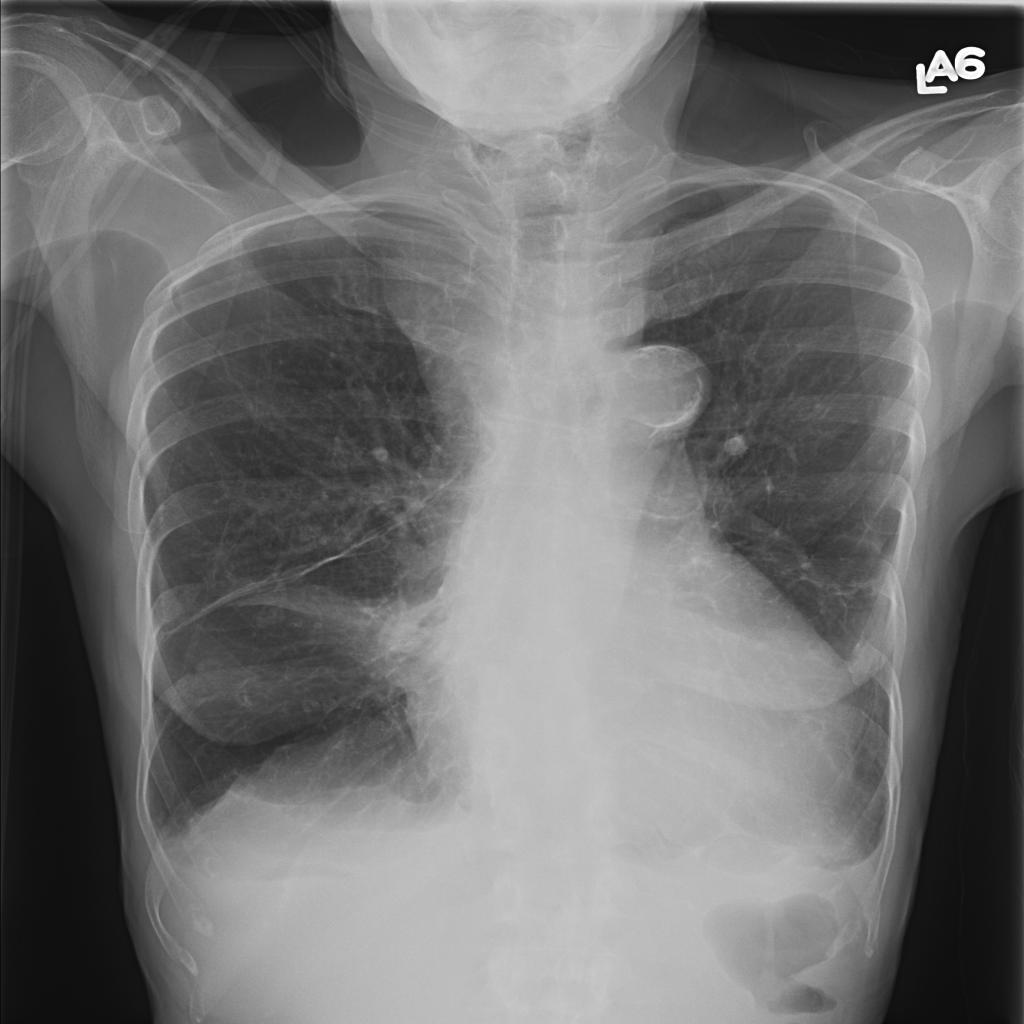Nodule: (200, 193, 242, 221), (388, 336, 427, 361), (190, 133, 226, 160)
